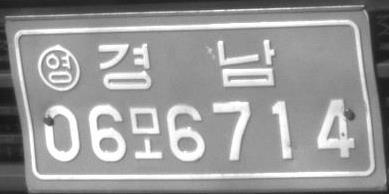0: (43, 104, 80, 161)
1: (266, 99, 304, 160)
4: (316, 98, 355, 158)
6: (166, 102, 206, 163), (87, 103, 126, 162)
7: (211, 100, 252, 161)
경남_D: (97, 38, 275, 90)
모: (128, 105, 163, 160)
영: (36, 44, 80, 92)
